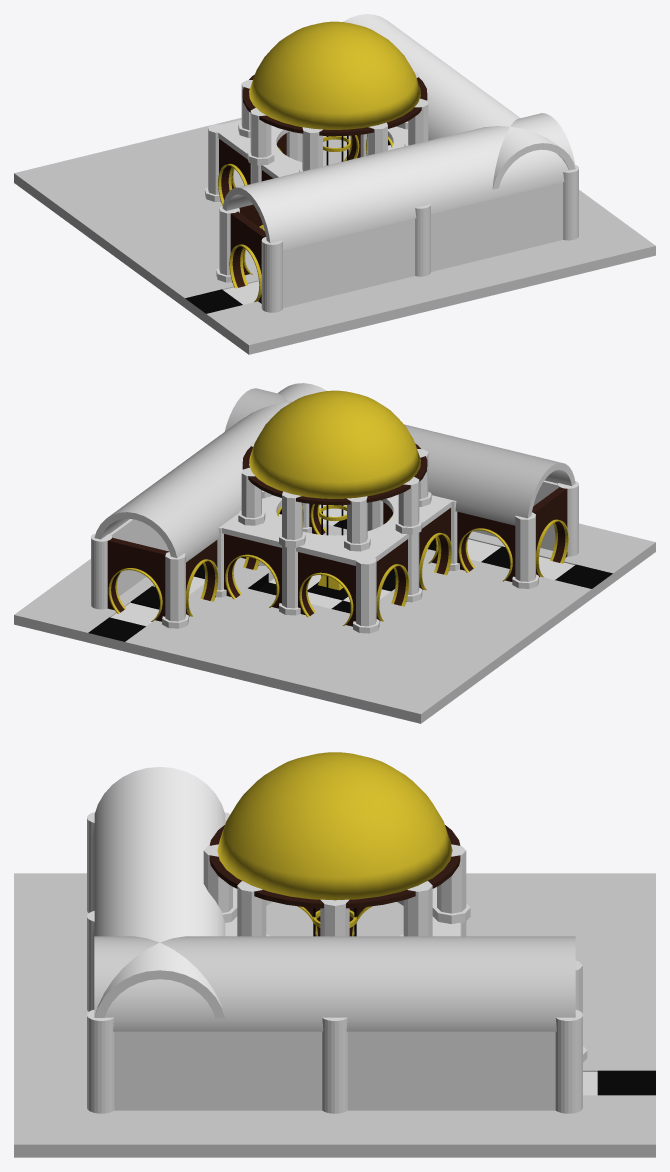
File: samplebuilding.gltf
3 views of the same model, one above another, from view 1: azimuth 30°, elevation 25°; view 2: azimuth 150°, elevation 25°; view 3: azimuth 270°, elevation 25° (orthographic). The views are drawn at different scales.
Visible parts, largest first — view 1: Cube_007, Cylinder_043, Cube_006, Sphere_001, Cylinder_042, Sphere, Cube_015, Cylinder_014, Circle_001, Cube_012, Cylinder_012, Cylinder_013 (+6 smaller); view 2: Cube_007, Sphere_001, Cylinder_042, Cylinder_043, Sphere, Cube_016, Cube_009, Cube_010, Cube_015, Cube_008, Cube_012, Cube_011 (+15 smaller); view 3: Cube_007, Cylinder_042, Cube_005, Sphere_001, Cylinder_043, Cylinder_008, Cylinder_012, Cylinder_009, Circle_001, Cylinder_032, Cylinder_038, Cylinder_029 (+5 smaller).
Part boxes in pixels (left/top/right/bottom): Cube_007: left=14, top=117, right=655, bottom=354; Cylinder_043: left=222, top=113, right=575, bottom=250; Cube_006: left=283, top=182, right=562, bottom=307; Sphere_001: left=249, top=21, right=420, bottom=129; Cylinder_042: left=343, top=14, right=575, bottom=189; Sphere: left=218, top=119, right=407, bottom=178; Cube_015: left=229, top=211, right=265, bottom=303; Cylinder_014: left=261, top=237, right=282, bottom=312; Circle_001: left=242, top=74, right=427, bottom=136; Cube_012: left=218, top=139, right=250, bottom=205; Cylinder_012: left=563, top=164, right=578, bottom=240; Cylinder_013: left=415, top=204, right=430, bottom=276; Cube_007: left=14, top=504, right=655, bottom=723; Sphere_001: left=249, top=390, right=420, bottom=498; Cylinder_042: left=94, top=383, right=326, bottom=562; Cylinder_043: left=225, top=388, right=575, bottom=525; Sphere: left=222, top=494, right=451, bottom=565; Cube_016: left=107, top=537, right=169, bottom=621; Cube_009: left=298, top=552, right=355, bottom=626; Cube_010: left=224, top=534, right=281, bottom=608; Cube_015: left=532, top=487, right=568, bottom=577; Cube_008: left=457, top=511, right=515, bottom=581; Cube_012: left=376, top=539, right=409, bottom=621; Cube_011: left=419, top=508, right=451, bottom=590; Cube_007: left=14, top=873, right=655, bottom=1157; Cylinder_042: left=94, top=936, right=575, bottom=1031; Cube_005: left=114, top=1031, right=555, bottom=1110; Sphere_001: left=217, top=752, right=452, bottom=900; Cylinder_043: left=92, top=767, right=225, bottom=1018; Cylinder_008: left=555, top=1009, right=582, bottom=1113; Cylinder_012: left=87, top=1009, right=114, bottom=1113; Cylinder_009: left=322, top=1017, right=347, bottom=1113; Circle_001: left=209, top=825, right=460, bottom=908; Cylinder_032: left=403, top=881, right=432, bottom=936; Cylinder_038: left=237, top=881, right=266, bottom=936; Cylinder_029: left=437, top=844, right=466, bottom=913.
Size of the model in its own units: 22 by 10.2 by 22.
